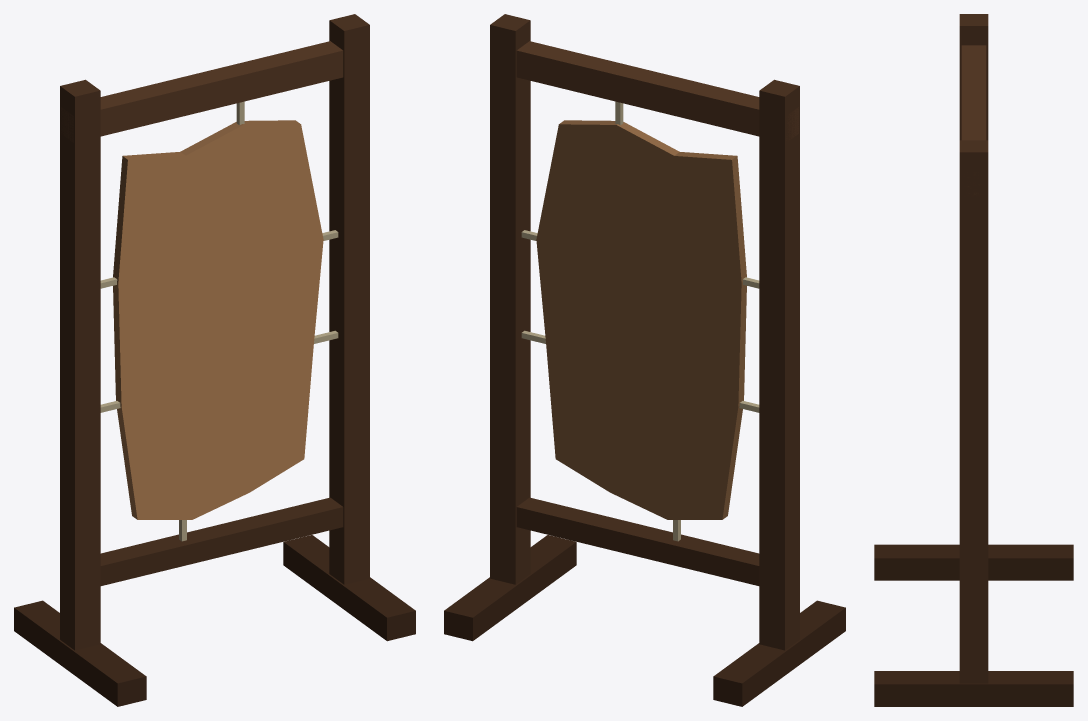
The model's file is hide_rack.glb.
3 renders of one model, left to right at view 1: azimuth 30°, elevation 25°; view 2: azimuth 150°, elevation 25°; view 3: azimuth 270°, elevation 25°, orthographic. The views are drawn at different scales.
Visible parts, largest first — view 1: hide_rack; view 2: hide_rack; view 3: hide_rack.
Boxes of the visible parts, x1,y1,x2,y2 form: hide_rack: [14, 14, 415, 706]; hide_rack: [444, 14, 845, 706]; hide_rack: [874, 14, 1073, 706].
Size of the model in its own units: 0.93 by 1.72 by 0.56.
